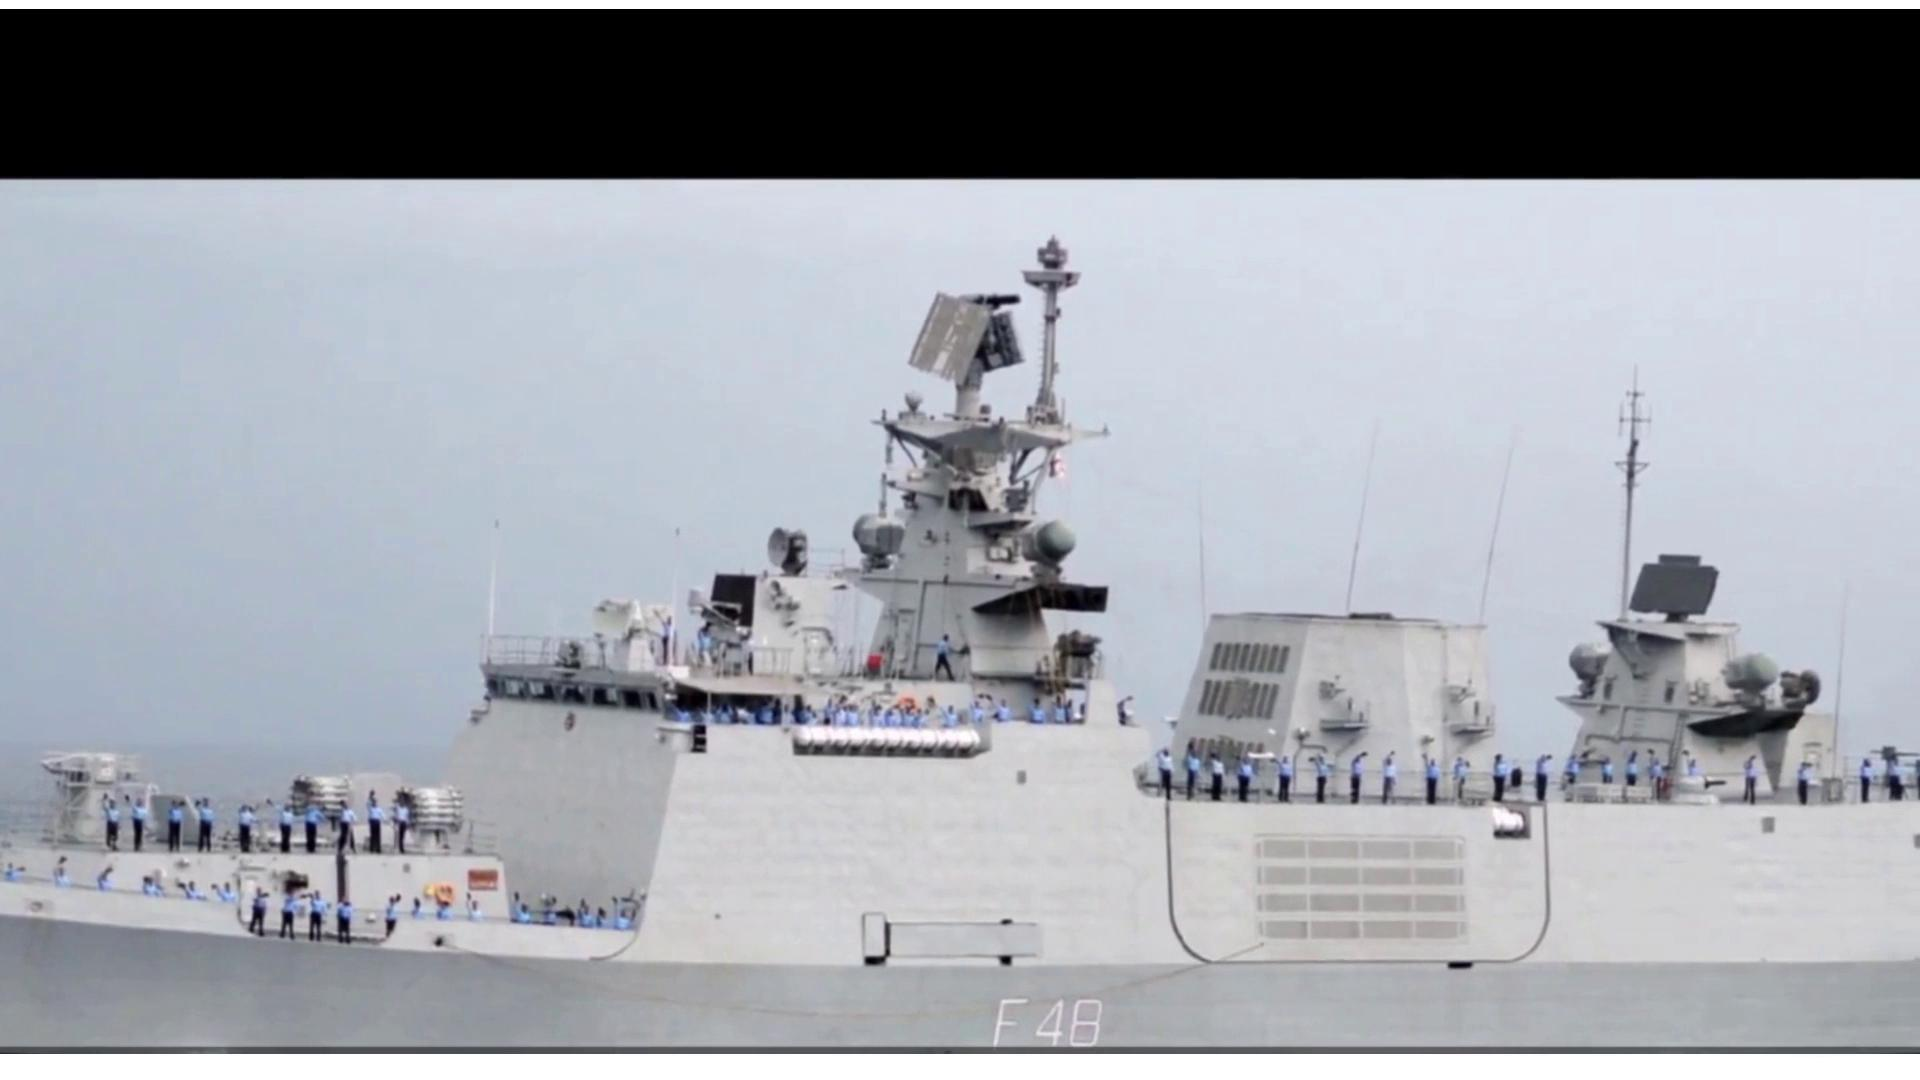OCR: (966, 991, 1124, 1053)
